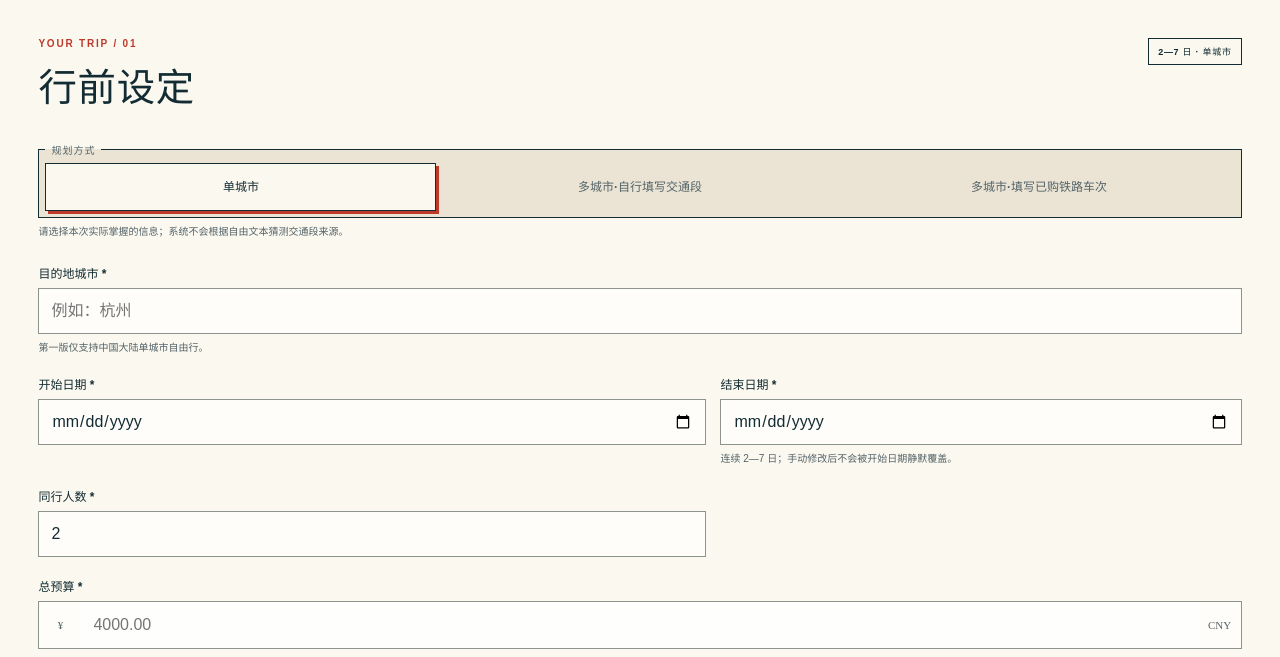
Scenario: TripRequestForm › does not overwrite a user-edited end date when the start date changes
Type "2026-08-15" into the date field labelled "开始日期 *". click: (372, 422)
box: [38,399,706,445]
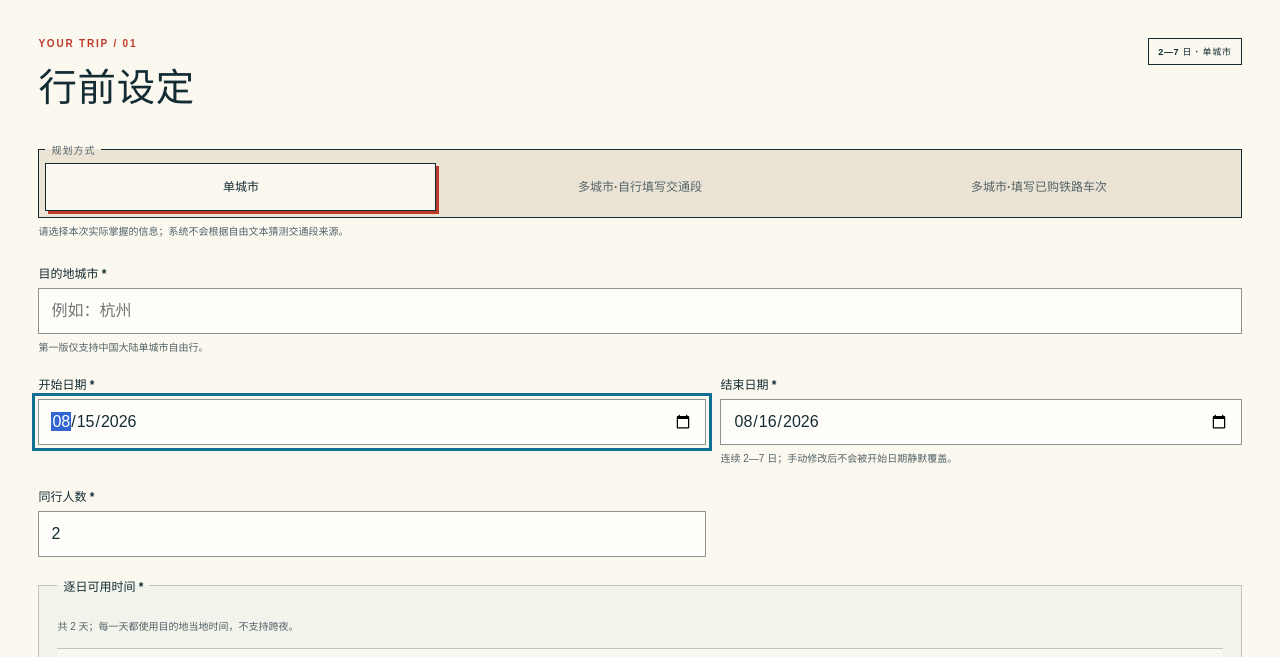
Type "2026-08-18" into the date field labelled "结束日期 *". click: (981, 422)
box: [720,399,1242,445]
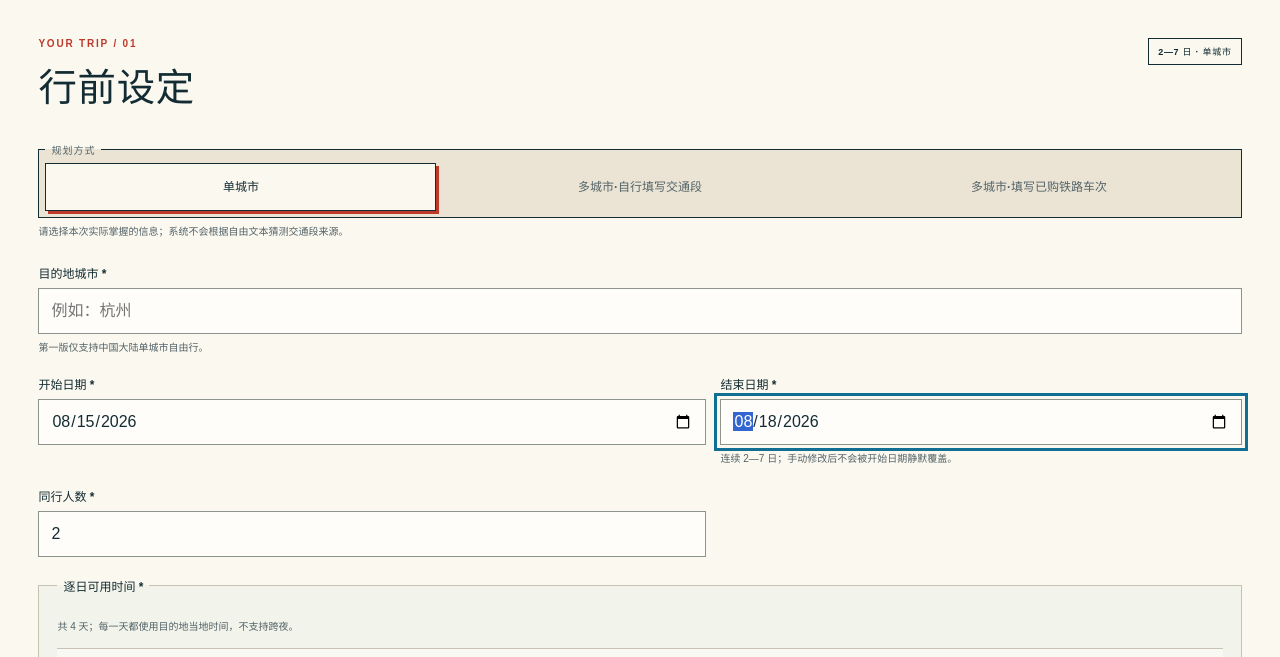
Type "2026-08-16" into the date field labelled "开始日期 *". click: (372, 422)
box: [38,399,706,445]
(page scrolled)
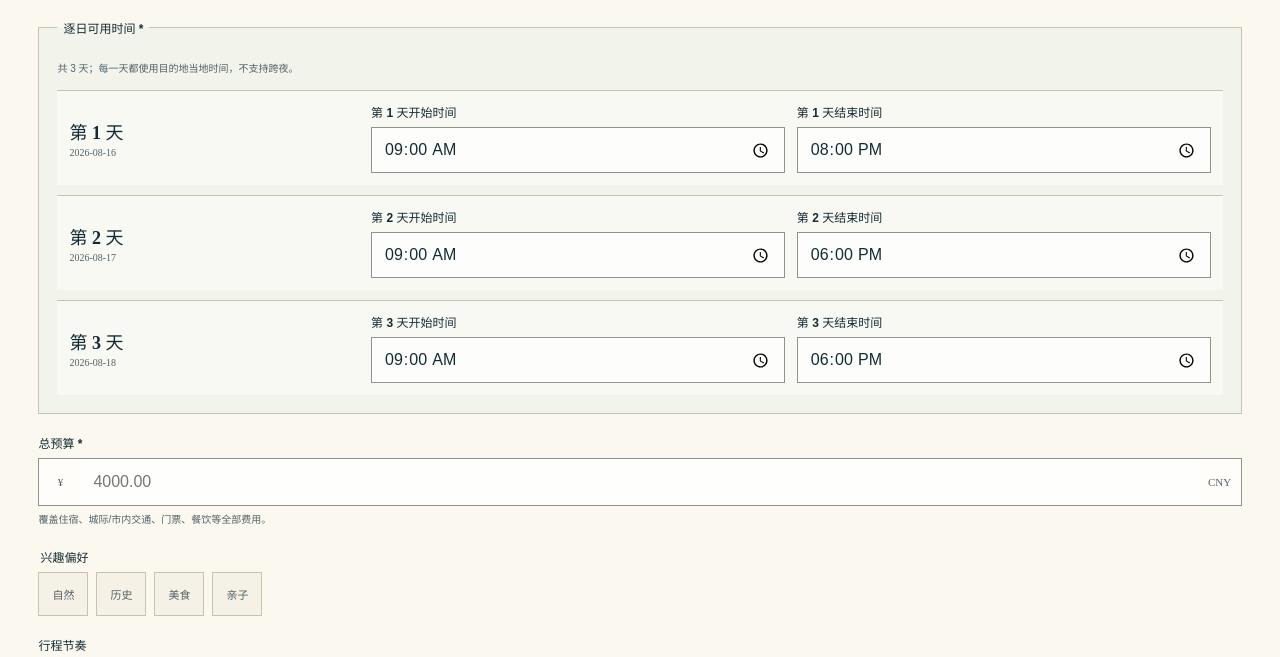
Result: the time field labelled "第 3 天结束时间" is shown at [797,337,1211,383]
